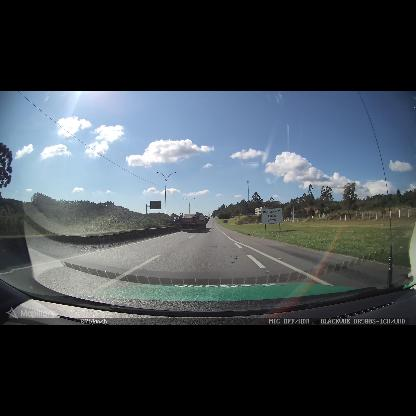I-SA: (261, 208, 283, 224)
